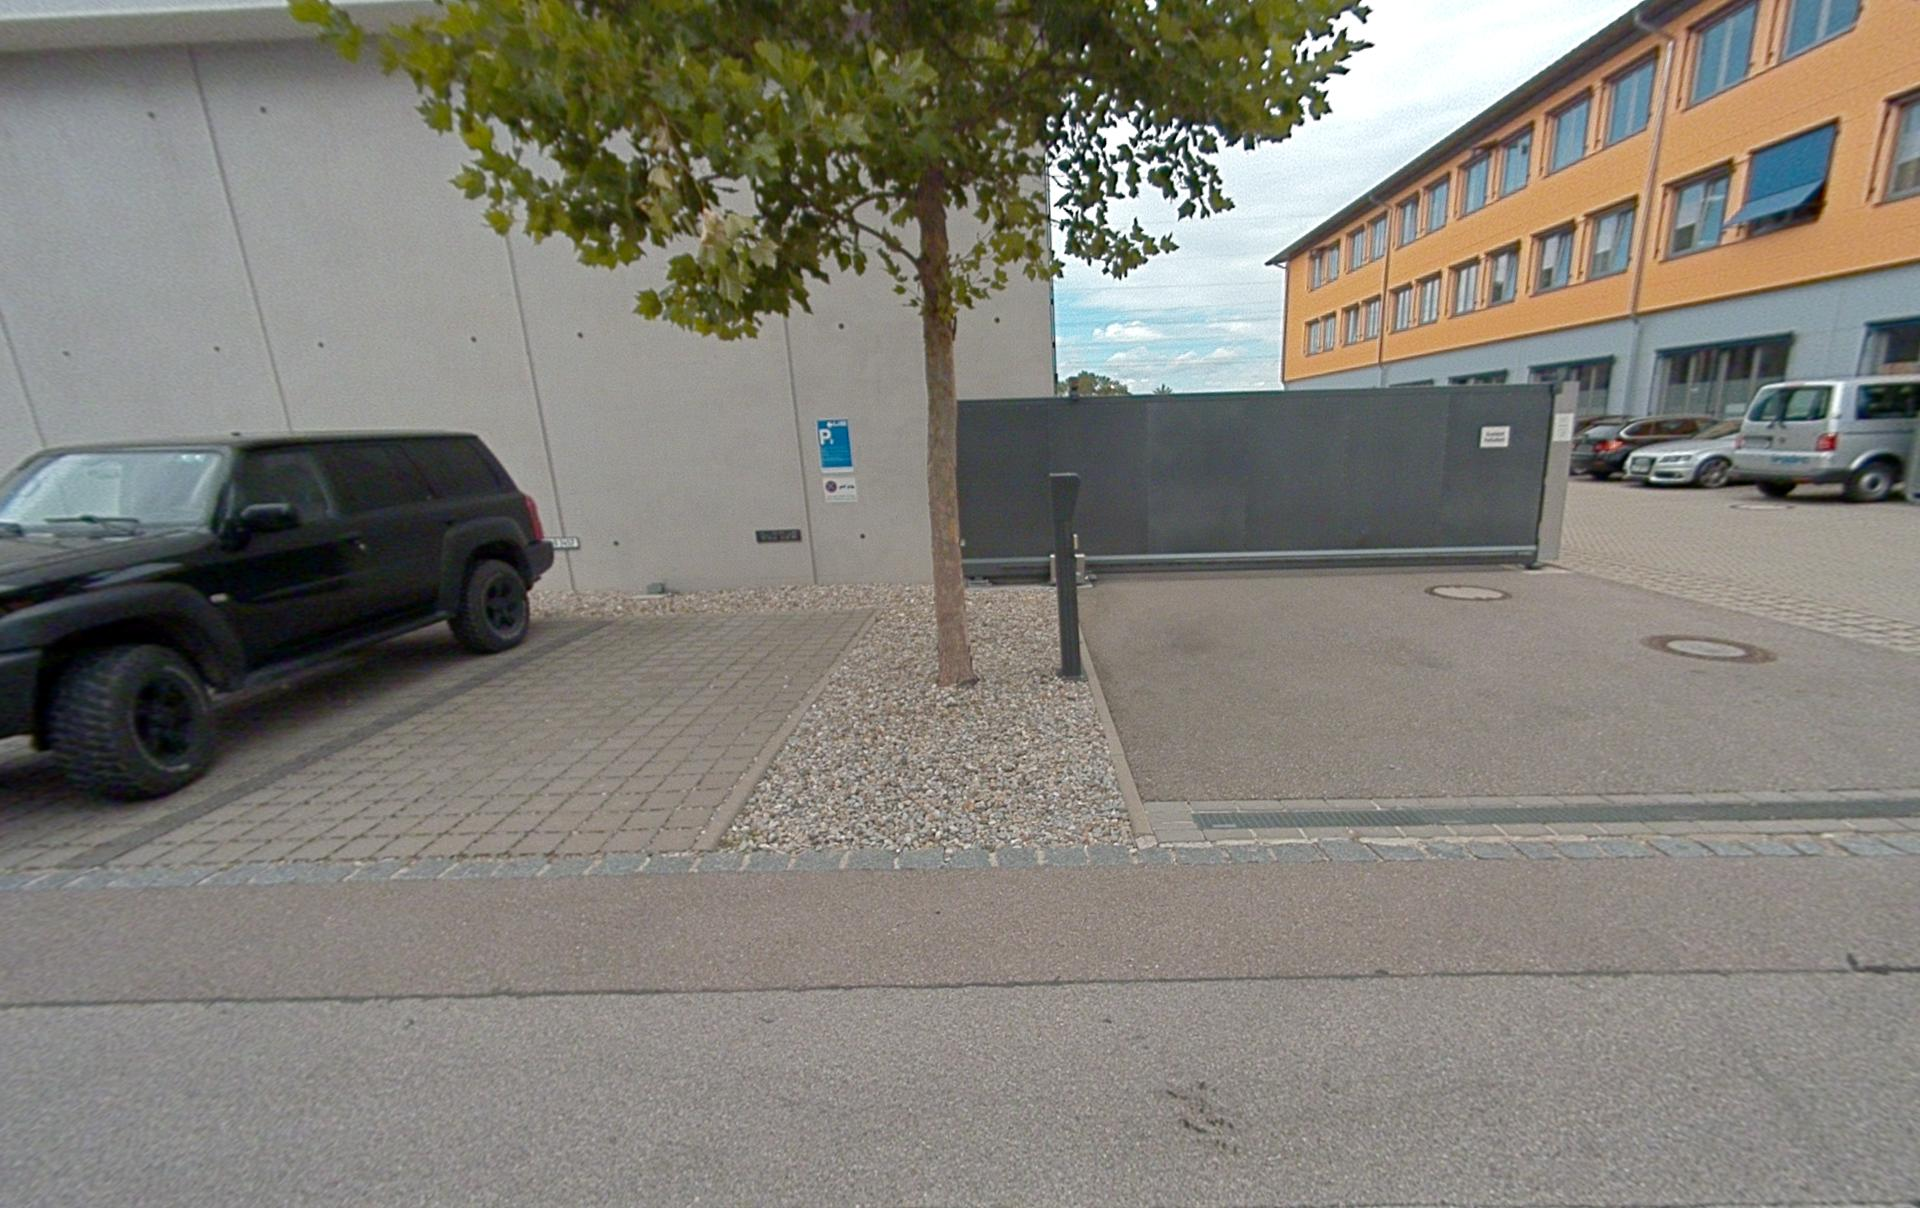car: (0, 433, 552, 797), (1574, 413, 1713, 477), (1624, 420, 1741, 487)
